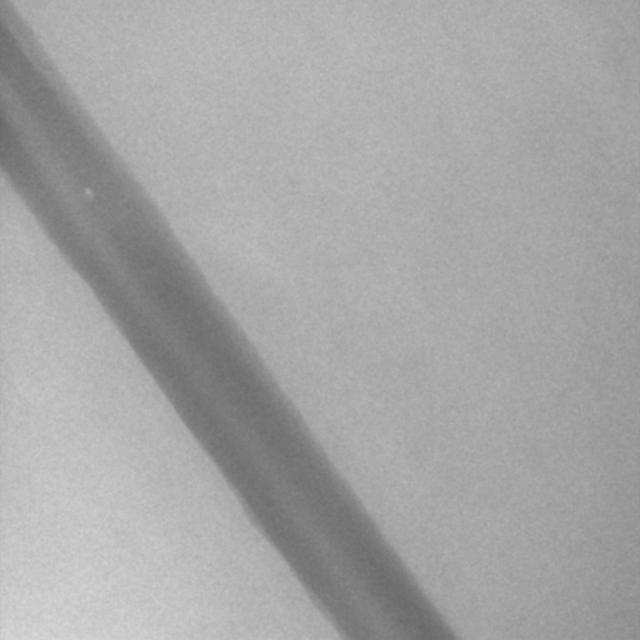air hole: (84, 186, 94, 200)
